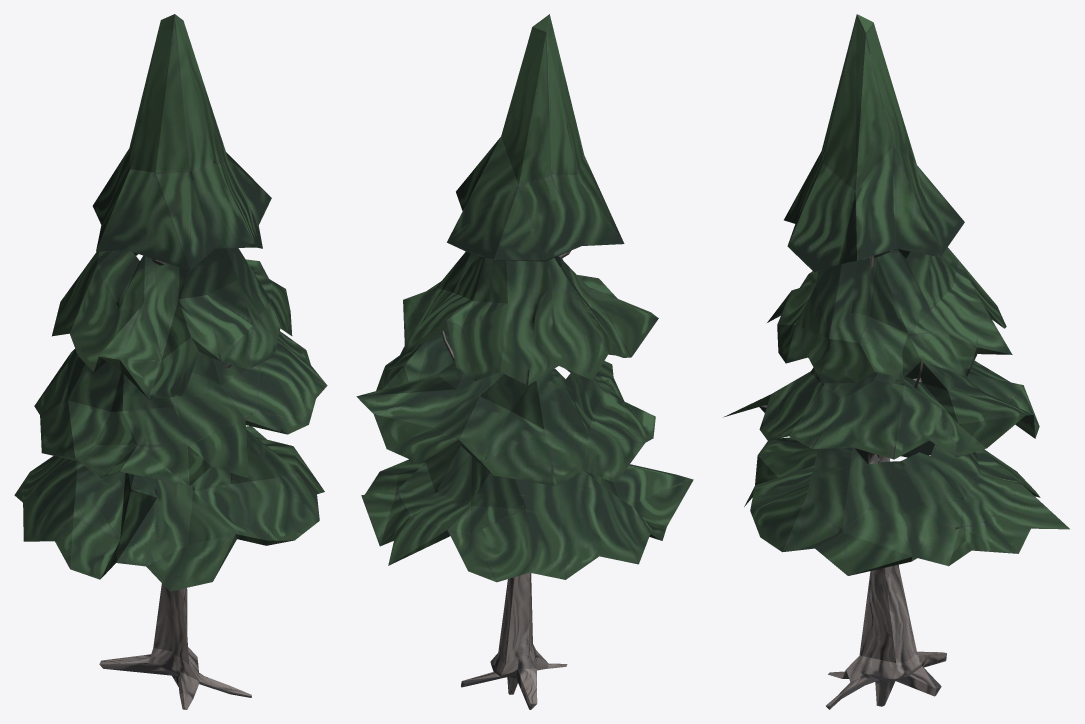
3 renders of one model, left to right at view 1: azimuth 30°, elevation 25°; view 2: azimuth 150°, elevation 25°; view 3: azimuth 270°, elevation 25°, orthographic. The views are drawn at different scales.
Visible parts, largest first — view 1: tree; view 2: tree; view 3: tree.
Boxes of the visible parts, box(x1,y1,x2,y2) form: tree: box(14, 14, 327, 709); tree: box(356, 14, 693, 709); tree: box(723, 14, 1069, 709).
Size of the model in its own units: 402 by 989 by 460.
1 material, 1 textured.
